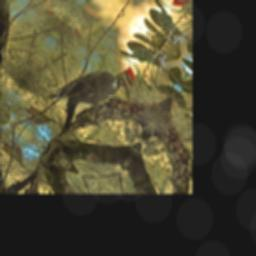Woodpecker: (44, 35, 146, 142)
